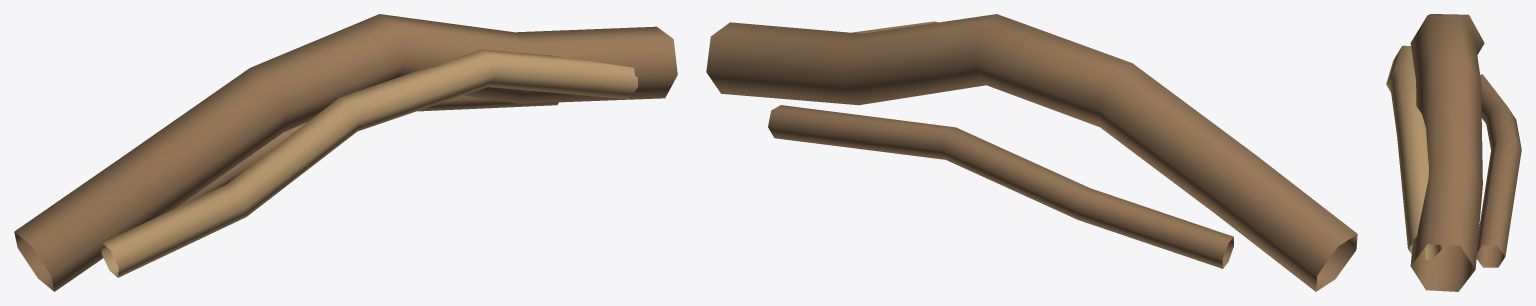
File: mdl_env_root_bridge.glb
3 views of the same model, side by side, from view 1: azimuth 30°, elevation 25°; view 2: azimuth 150°, elevation 25°; view 3: azimuth 270°, elevation 25° (orthographic). The views are drawn at different scales.
Parts seen in each view (by area): view 1: Root bridge | main arch, Root bridge | crossing, Root bridge | trailing; view 2: Root bridge | main arch, Root bridge | trailing; view 3: Root bridge | main arch, Root bridge | trailing, Root bridge | crossing.
Boxes of the visible parts, x1,y1,x2,y2 form: Root bridge | main arch: [14, 14, 677, 291]; Root bridge | crossing: [101, 49, 638, 277]; Root bridge | trailing: [175, 95, 558, 208]; Root bridge | main arch: [706, 14, 1357, 291]; Root bridge | trailing: [768, 105, 1233, 268]; Root bridge | main arch: [1410, 14, 1484, 291]; Root bridge | trailing: [1476, 74, 1521, 267]; Root bridge | crossing: [1386, 45, 1441, 259].
Size of the model in its own units: 3.65 by 0.9983 by 0.7499.
